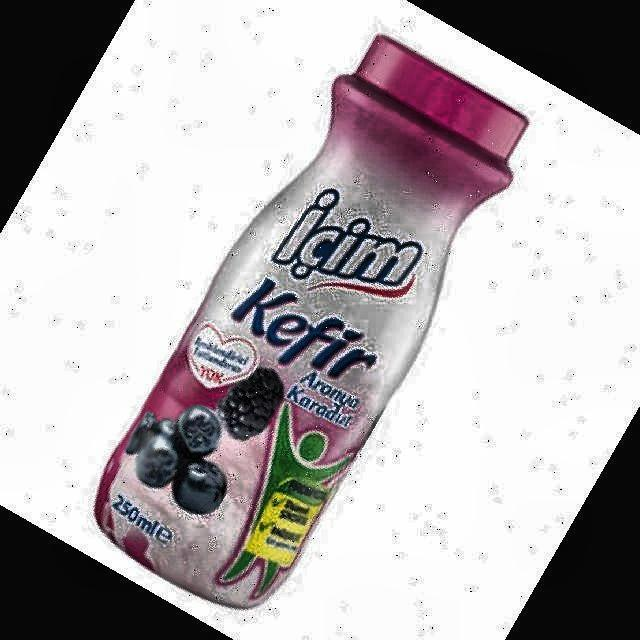plastic: (98, 36, 528, 607)
